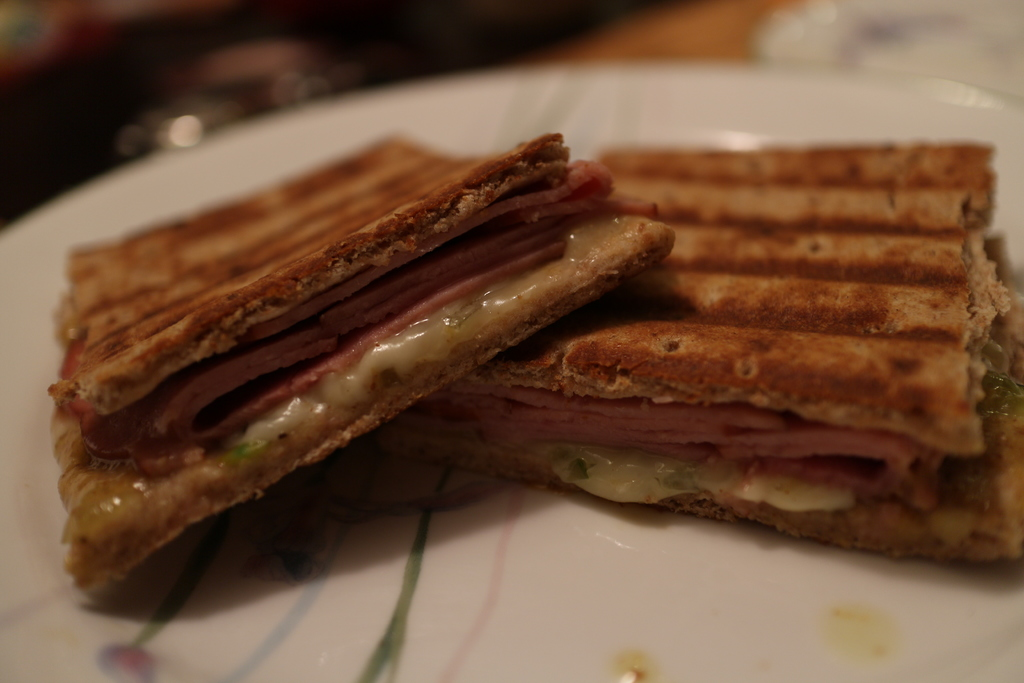sandwich: (45, 134, 676, 591), (368, 142, 1023, 565)
